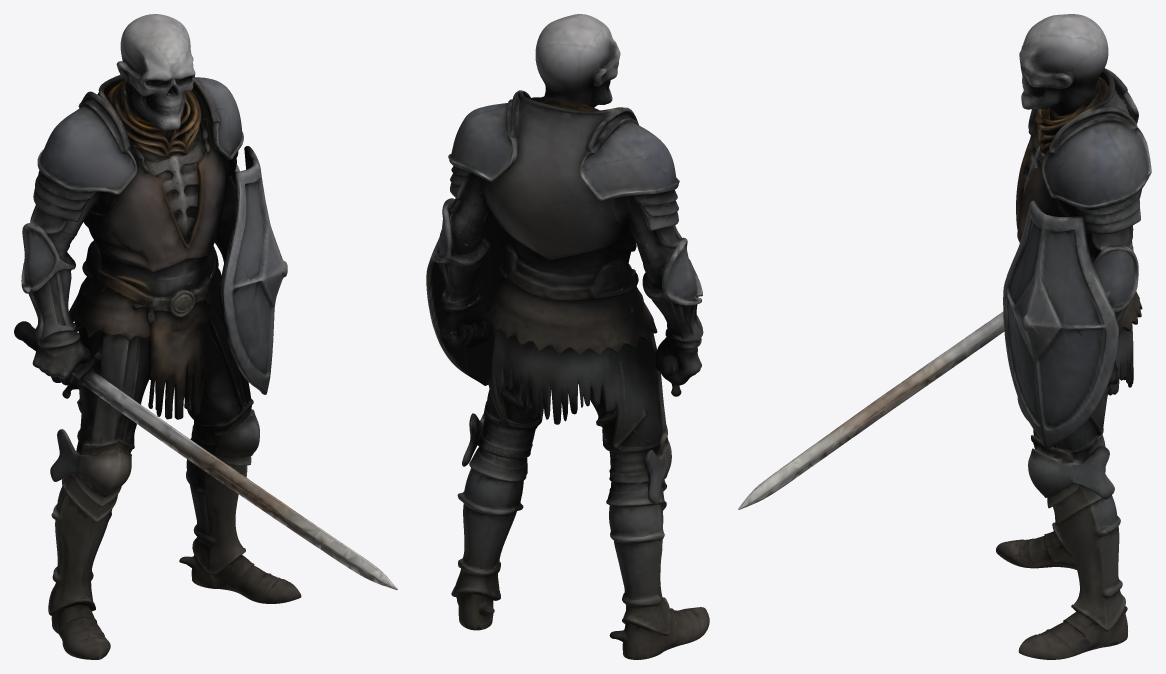
The model's file is skeleton.glb.
3 renders of one model, left to right at view 1: azimuth 30°, elevation 25°; view 2: azimuth 150°, elevation 25°; view 3: azimuth 270°, elevation 25°, orthographic. The views are drawn at different scales.
Parts seen in each view (by area): view 1: material; view 2: material; view 3: material.
Boxes of the visible parts, left/top/right/bottom form: material: left=14, top=14, right=397, bottom=659; material: left=426, top=14, right=709, bottom=659; material: left=738, top=14, right=1151, bottom=659.
Size of the model in its own units: 0.4519 by 1.02 by 0.6535.
1 material, 1 textured.
